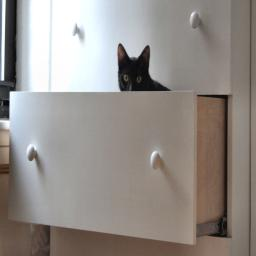catnose: (130, 88, 134, 92)
